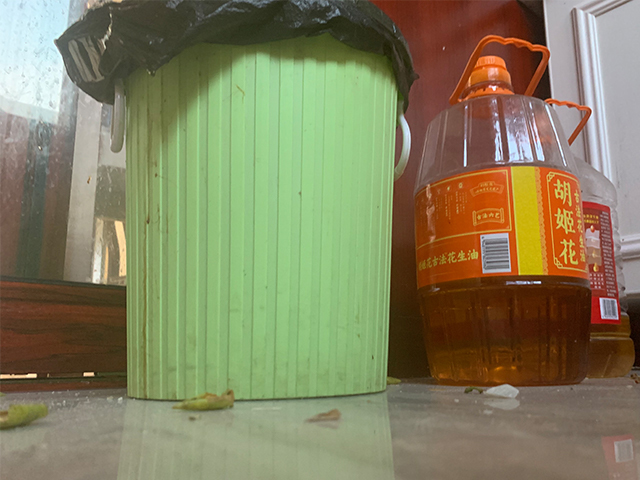trashcan: (95, 1, 412, 402)
